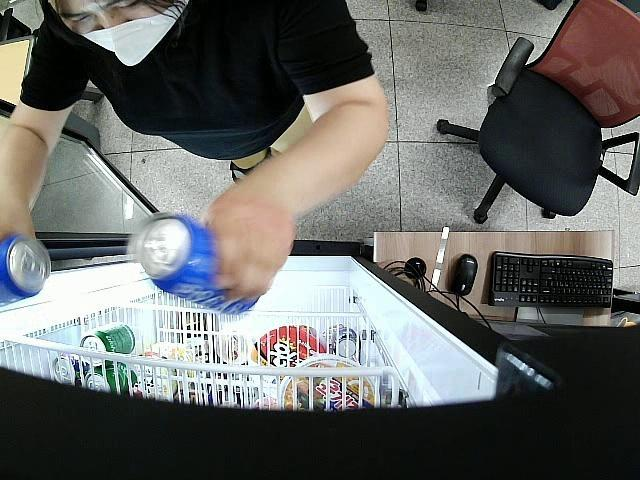13_pocariSweat: (127, 210, 258, 315), (0, 234, 49, 311)
